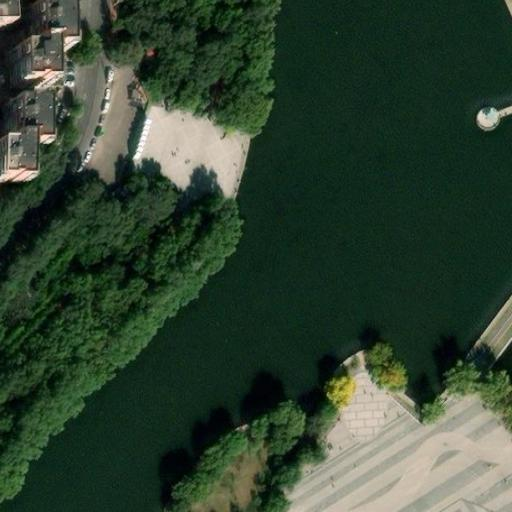building: (11, 1, 61, 84), (0, 100, 38, 181)
